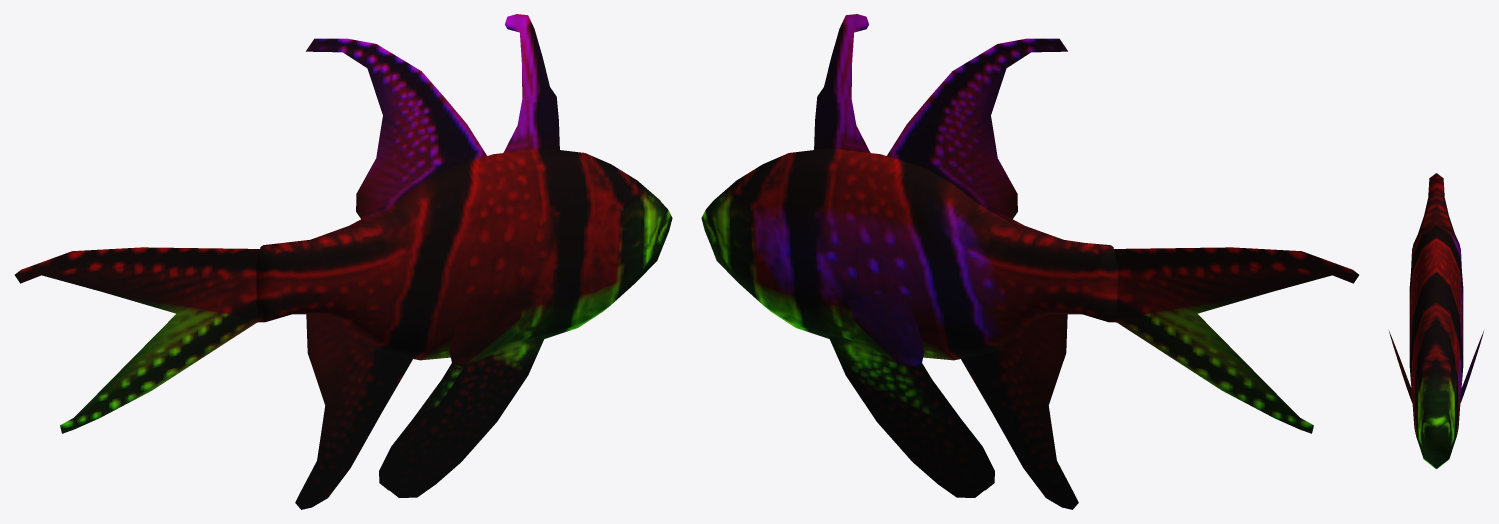
The model's file is banggai_cardinalfish.glb.
3 views of the same model, side by side, from view 1: azimuth 30°, elevation 25°; view 2: azimuth 150°, elevation 25°; view 3: azimuth 270°, elevation 25° (orthographic). The views are drawn at different scales.
Parts seen in each view (by area): view 1: BanggaiCardinalfish; view 2: BanggaiCardinalfish; view 3: BanggaiCardinalfish.
Part boxes in pixels (left/top/right/bottom): BanggaiCardinalfish: left=15, top=14, right=672, bottom=509; BanggaiCardinalfish: left=701, top=14, right=1358, bottom=509; BanggaiCardinalfish: left=1389, top=173, right=1483, bottom=468.
Bounding box in the file's own units: 1 × 0.696 × 0.1345.
1 material, 1 textured.
